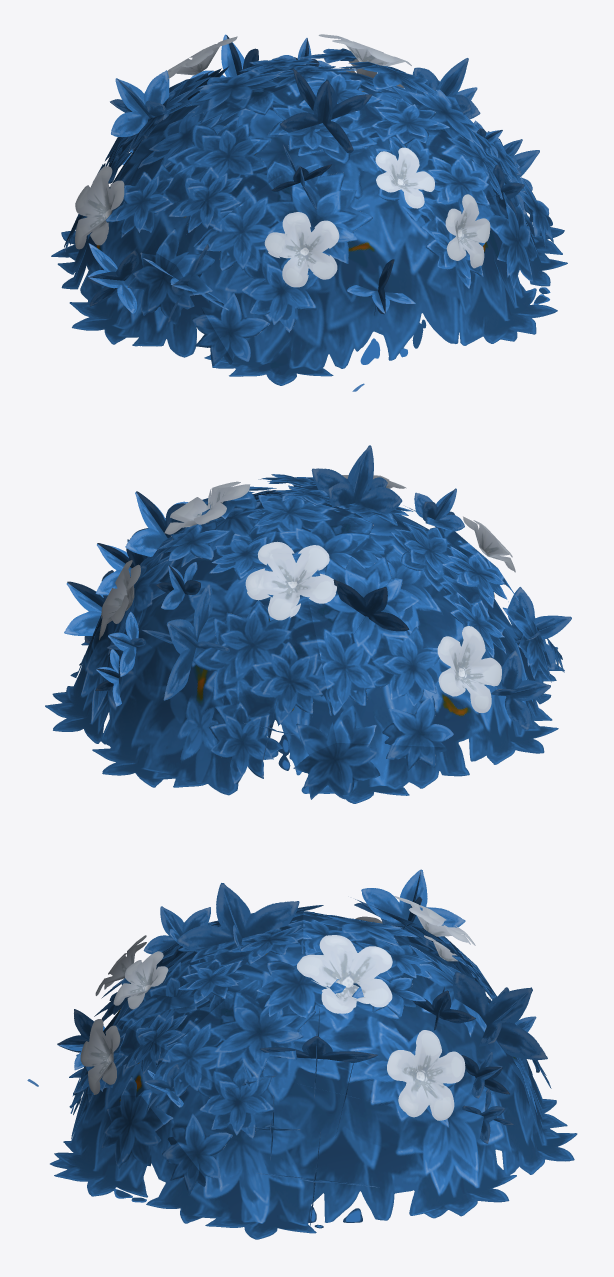
The model's file is 2_Arbusto_Azul.fbx.
3 renders of one model, top to bottom at view 1: azimuth 30°, elevation 25°; view 2: azimuth 150°, elevation 25°; view 3: azimuth 270°, elevation 25°, orthographic. The views are drawn at different scales.
Parts seen in each view (by area): view 1: 2_Arbusto_Azul; view 2: 2_Arbusto_Azul; view 3: 2_Arbusto_Azul.
Part boxes in pixels (x1=…): 2_Arbusto_Azul: x1=51, y1=34, x2=567, y2=391; 2_Arbusto_Azul: x1=45, y1=445, x2=571, y2=803; 2_Arbusto_Azul: x1=27, y1=869, x2=577, y2=1239.
Bounding box in the file's own units: 356 × 193 × 350.
